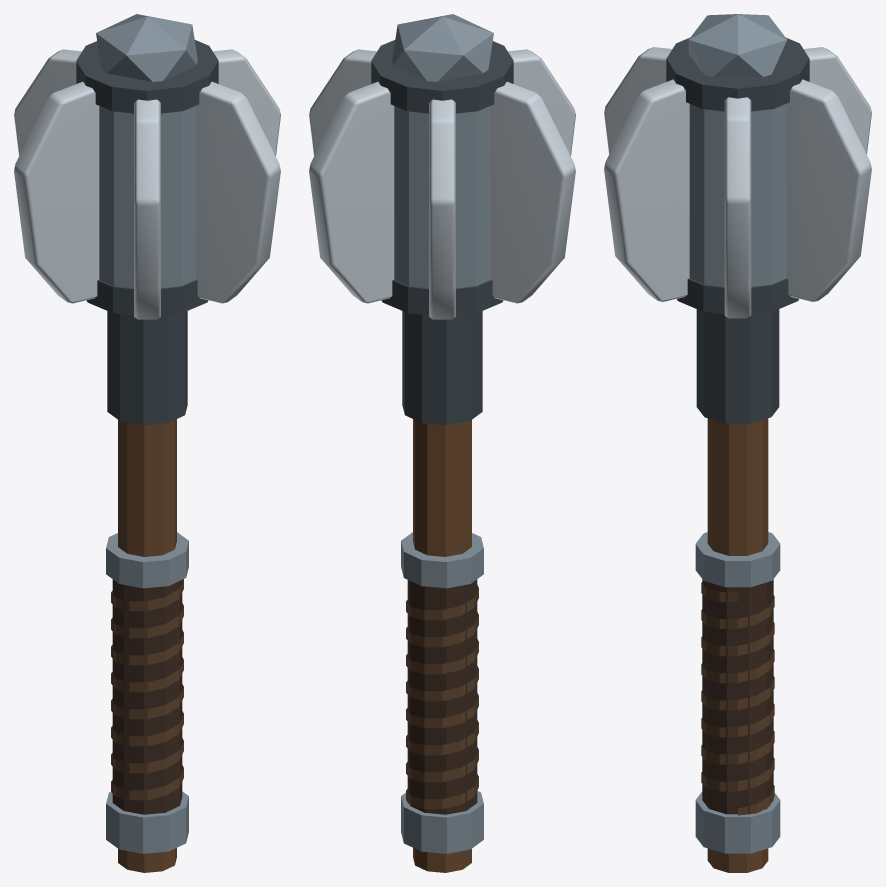
File: Crownless_Iron_Mace.glb
3 views of the same model, side by side, from view 1: azimuth 30°, elevation 25°; view 2: azimuth 150°, elevation 25°; view 3: azimuth 270°, elevation 25° (orthographic).
Parts seen in each view (by area): view 1: Mace | flange 04, Mace | flange 06, Mace | head core, Mace | leather grip, Mace | ash haft, Mace | reinforced neck, Mace | grip binding, Mace | flange 05, Mace | crown cap, Mace | upper head band, Mace | butt cap, Mace | grip collar (+3 smaller); view 2: Mace | flange 02, Mace | flange 04, Mace | head core, Mace | leather grip, Mace | ash haft, Mace | reinforced neck, Mace | grip binding, Mace | flange 03, Mace | crown cap, Mace | upper head band, Mace | butt cap, Mace | grip collar (+3 smaller); view 3: Mace | flange 02, Mace | flange 06, Mace | head core, Mace | leather grip, Mace | ash haft, Mace | reinforced neck, Mace | grip binding, Mace | flange 01, Mace | crown cap, Mace | upper head band, Mace | butt cap, Mace | grip collar (+3 smaller).
Boxes of the visible parts, left/top/right/bottom form: Mace | flange 04: left=14, top=81, right=99, bottom=303; Mace | flange 06: left=195, top=81, right=280, bottom=303; Mace | head core: left=99, top=106, right=195, bottom=288; Mace | leather grip: left=112, top=579, right=182, bottom=814; Mace | ash haft: left=118, top=419, right=176, bottom=872; Mace | reinforced neck: left=107, top=311, right=187, bottom=425; Mace | grip binding: left=111, top=579, right=183, bottom=800; Mace | flange 05: left=134, top=99, right=160, bottom=319; Mace | crown cap: left=96, top=14, right=197, bottom=81; Mace | upper head band: left=76, top=40, right=218, bottom=113; Mace | butt cap: left=106, top=791, right=188, bottom=853; Mace | grip collar: left=106, top=532, right=188, bottom=588; Mace | flange 02: left=309, top=81, right=394, bottom=303; Mace | flange 04: left=490, top=81, right=575, bottom=303; Mace | head core: left=394, top=106, right=490, bottom=288; Mace | leather grip: left=407, top=579, right=477, bottom=814; Mace | ash haft: left=413, top=419, right=471, bottom=872; Mace | reinforced neck: left=402, top=311, right=482, bottom=425; Mace | grip binding: left=406, top=585, right=478, bottom=809; Mace | flange 03: left=429, top=99, right=455, bottom=319; Mace | crown cap: left=392, top=14, right=493, bottom=81; Mace | upper head band: left=371, top=40, right=513, bottom=113; Mace | butt cap: left=401, top=791, right=483, bottom=853; Mace | grip collar: left=401, top=532, right=483, bottom=588; Mace | flange 02: left=786, top=79, right=871, bottom=302; Mace | flange 06: left=604, top=79, right=689, bottom=302; Mace | head core: left=689, top=104, right=786, bottom=286; Mace | leather grip: left=702, top=579, right=773, bottom=814; Mace | ash haft: left=707, top=418, right=768, bottom=872; Mace | reinforced neck: left=696, top=309, right=779, bottom=423; Mace | grip binding: left=701, top=582, right=774, bottom=815; Mace | flange 01: left=724, top=97, right=751, bottom=318; Mace | crown cap: left=688, top=14, right=787, bottom=76; Mace | upper head band: left=666, top=37, right=809, bottom=111; Mace | butt cap: left=695, top=791, right=780, bottom=853; Mace | grip collar: left=695, top=532, right=780, bottom=587.
Bounding box in the file's own units: 1.34 × 4.18 × 1.2.
